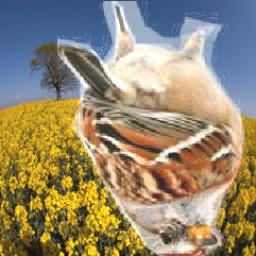Sparrow: (56, 2, 246, 256)
